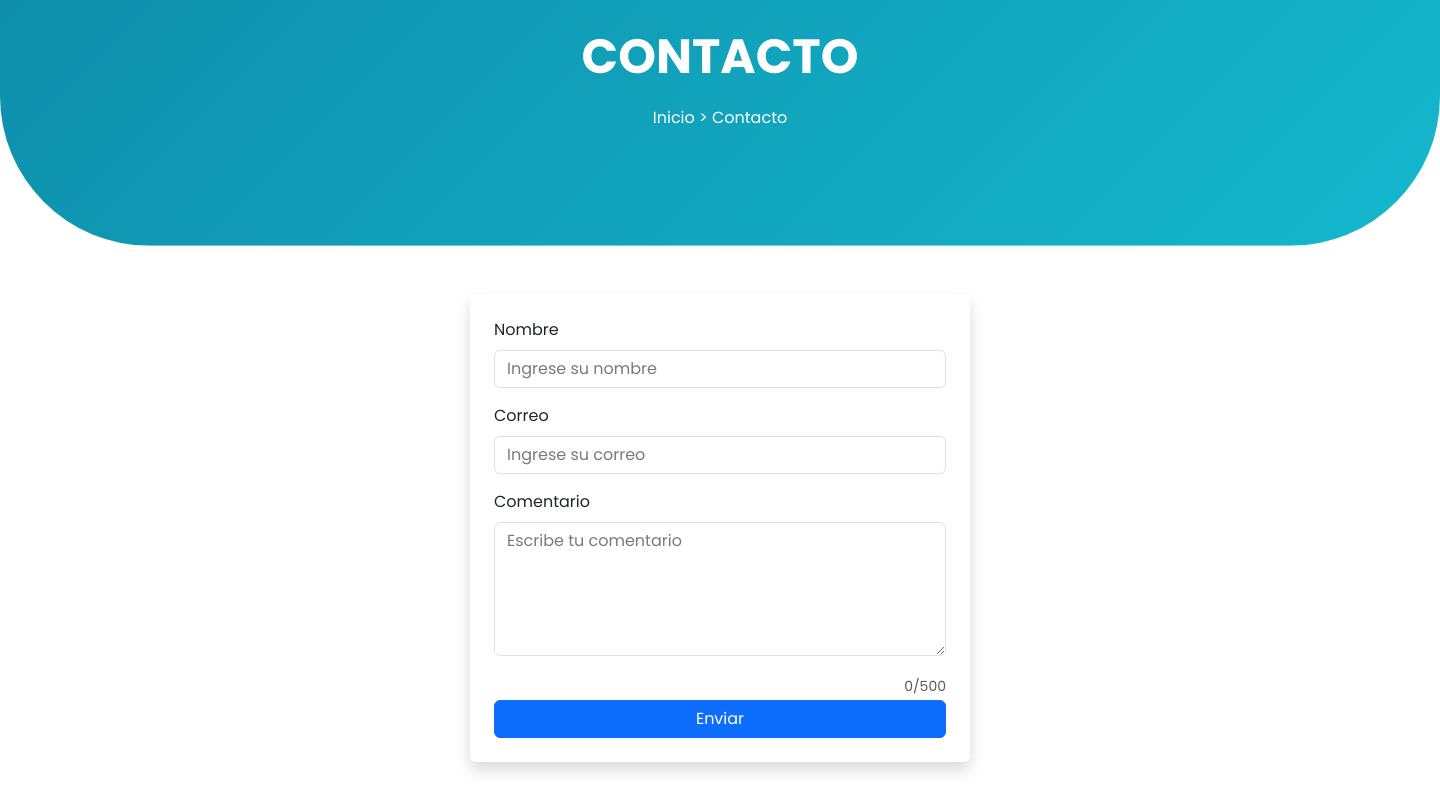
Test: Página Contacto › al enviar vacío muestra los 3 errores y no confirma el envío
The image size is (1440, 810).
(page scrolled)
What coordinates should you click on to do the following:
click the button "Enviar"
I would click on:
 (720, 719)
Its box is x1=494 y1=700 x2=946 y2=738.
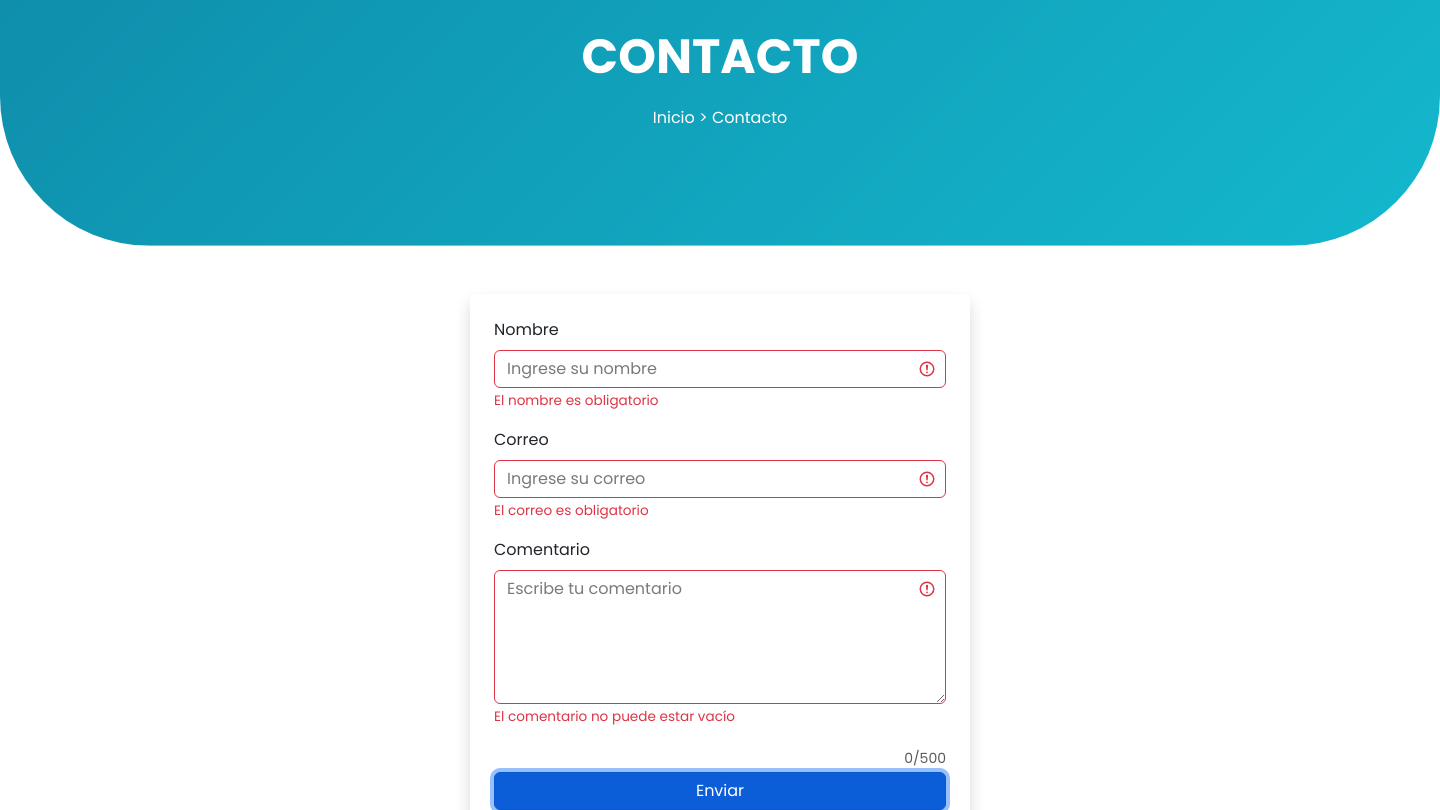
Expected: the text "El nombre es obligatorio" is shown, x1=494 y1=391 x2=658 y2=410
Expected: the text "El correo es obligatorio" is shown, x1=494 y1=501 x2=649 y2=520
Expected: the text "El comentario no puede estar vacío" is shown, x1=494 y1=707 x2=735 y2=726
